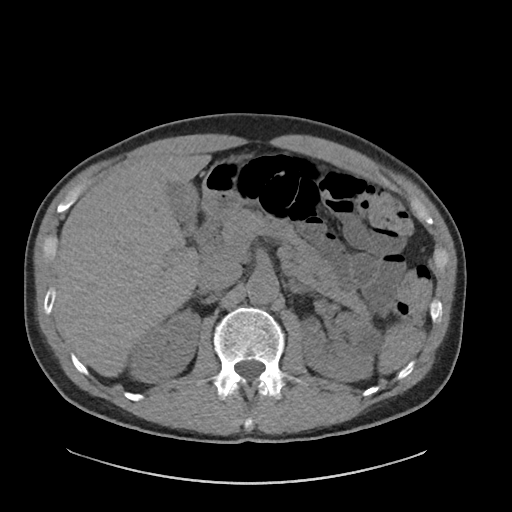Lesion: (356, 328, 384, 356)
